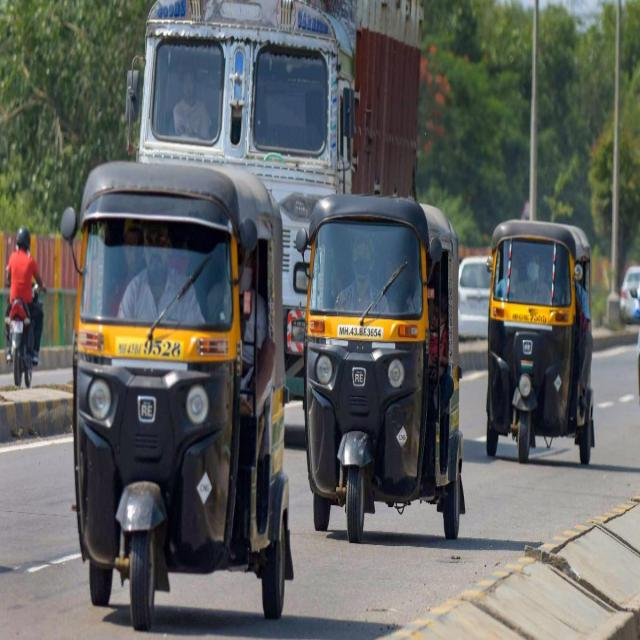autorickshaw: (70, 162, 292, 630), (296, 194, 465, 541), (486, 220, 595, 463)
motorcycle: (5, 227, 45, 386)
truck: (139, 0, 424, 392)
